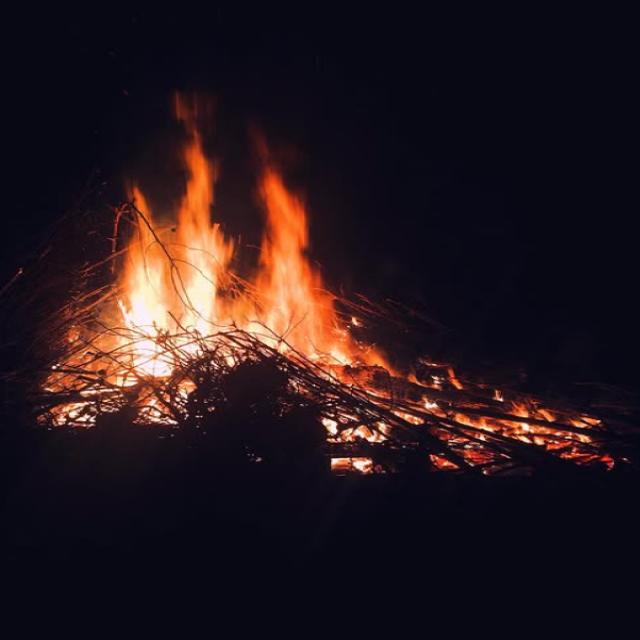fire: (322, 358, 617, 475), (254, 127, 384, 384), (119, 183, 194, 425), (172, 91, 235, 346), (39, 281, 120, 430), (195, 347, 322, 417), (232, 274, 271, 366)
